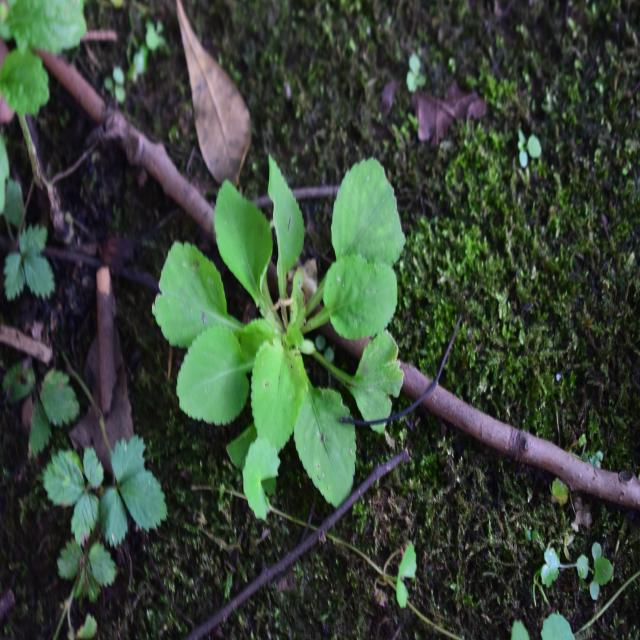Viola: (170, 174, 416, 492)
